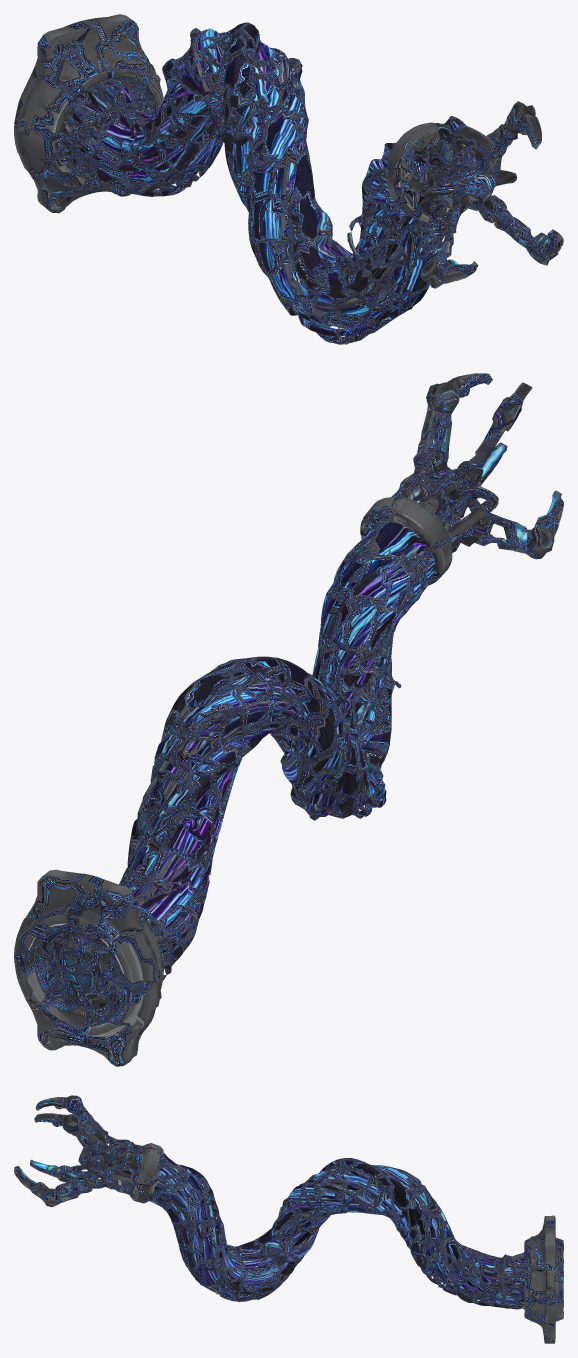
File: power-cable.glb
The picture shows the model from 3 angles, top to bottom: view 1: azimuth 30°, elevation 25°; view 2: azimuth 150°, elevation 25°; view 3: azimuth 270°, elevation 25°; orthographic projection. The views are drawn at different scales.
Bounding box in the file's own units: 0.3406 × 0.8752 × 1.9.
Materials: 1 (1 with a texture image).
